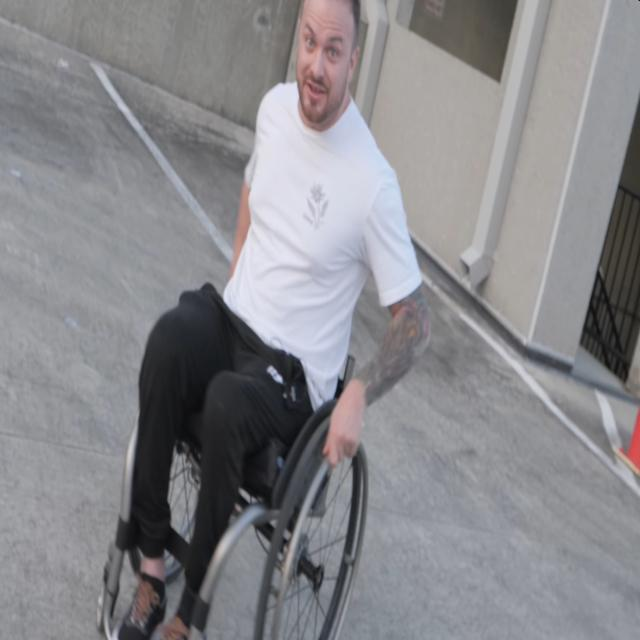wheelchairs: (93, 240, 368, 640)
